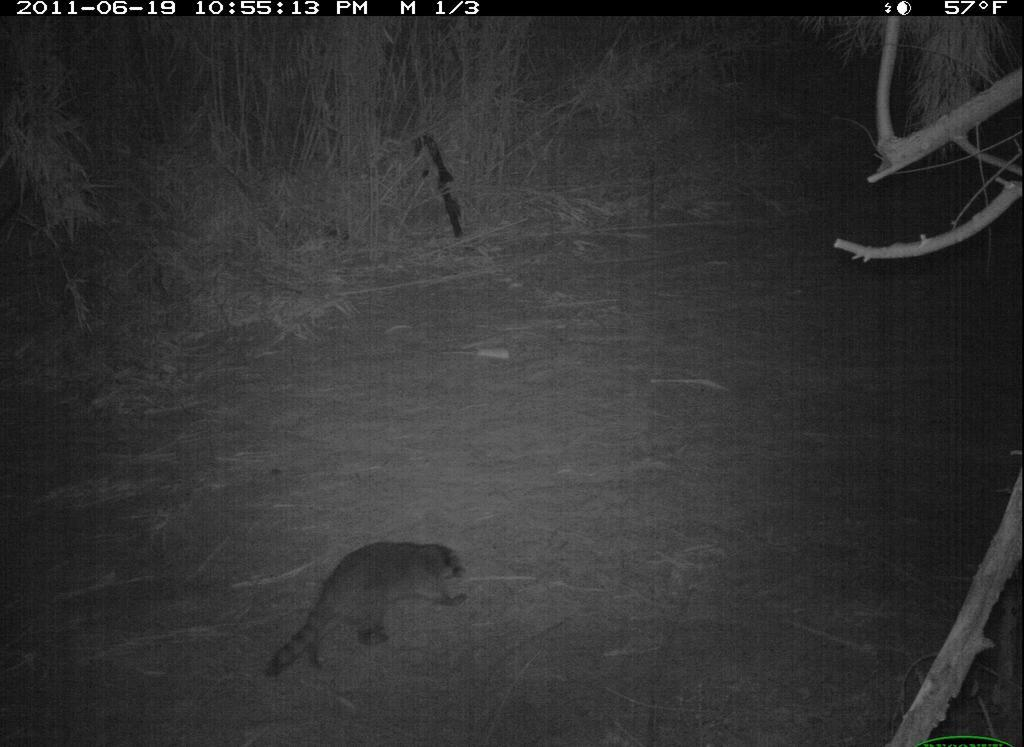raccoon: (246, 532, 489, 679)
